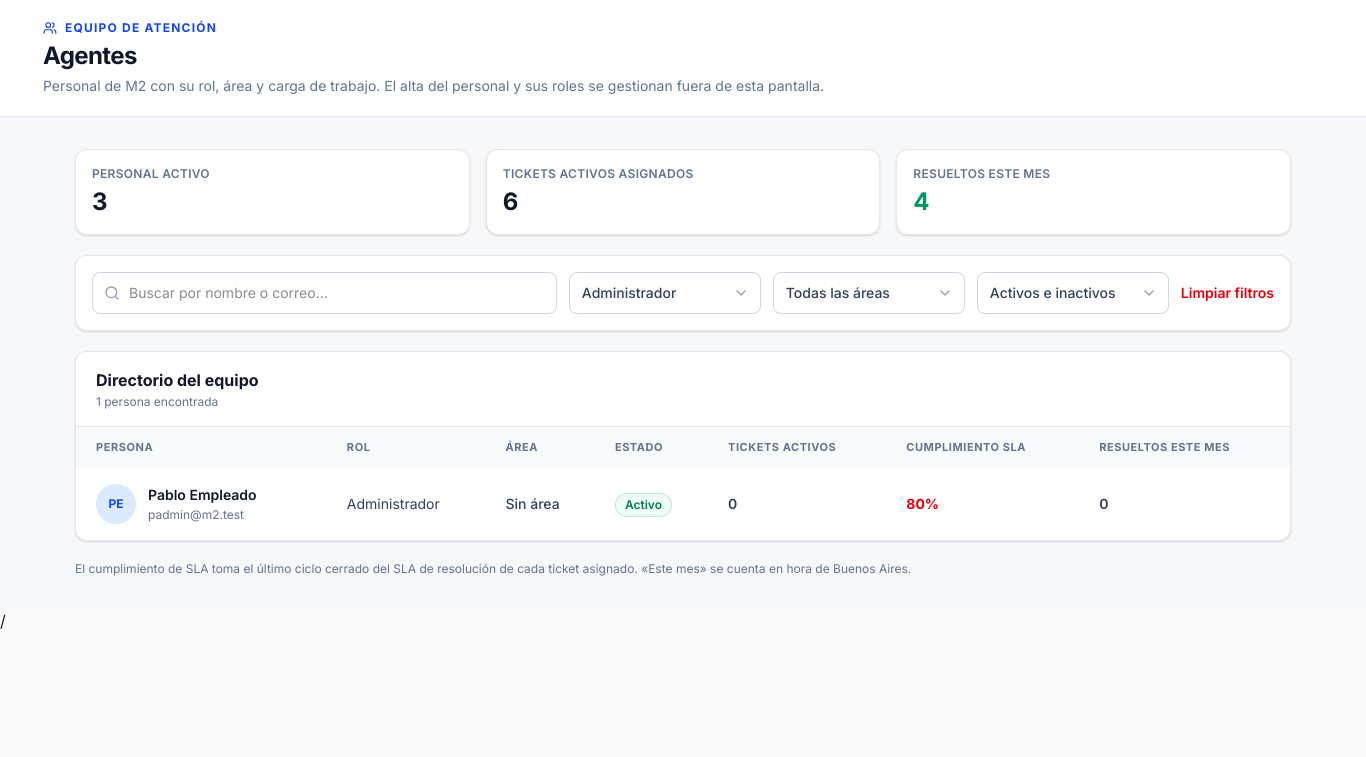
it: AgentsPage con el directorio real › filtra por texto sin importar tildes, rol, área y estado, y limpia los filtros
This screenshot has width=1366, height=757.
Earlier steps of the test are not shown.
Check: the text "1 persona encontrada" is shown, box [96, 394, 218, 409]
Select "Todos los roles" in the dropdown named "Filtrar por rol": (665, 293) [569, 272, 761, 314]
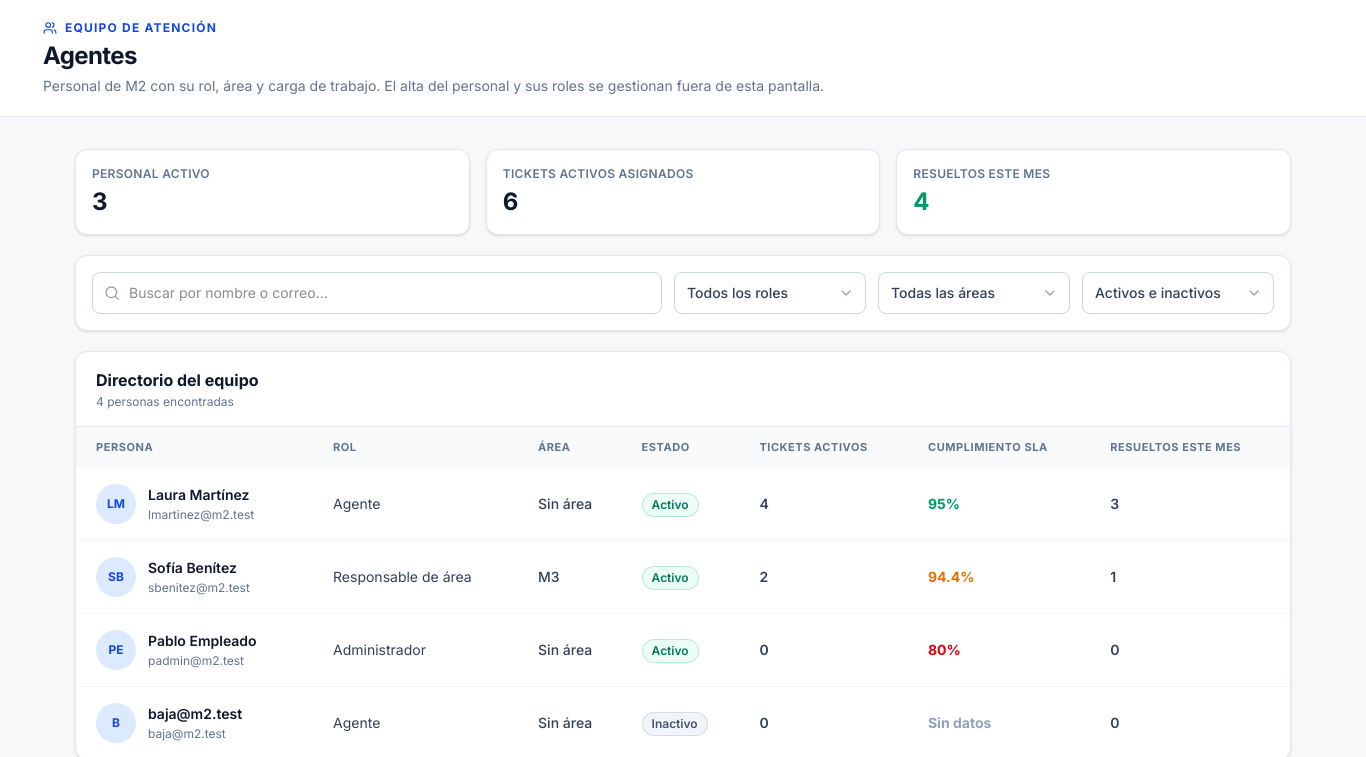
Select "M3" in the dropdown named "Filtrar por área": (974, 293) [878, 272, 1070, 314]
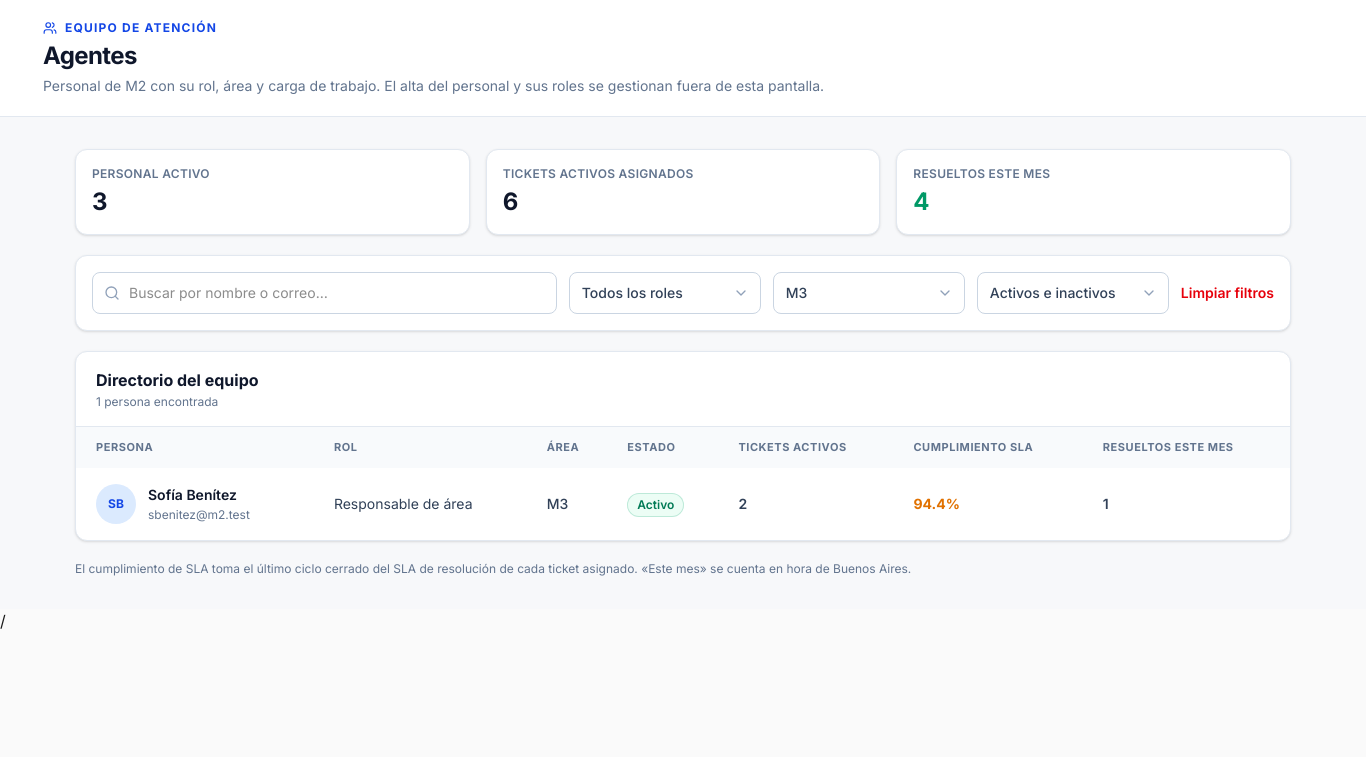
Check: the text "1 persona encontrada" is shown, box [96, 394, 218, 409]
Select "Todas las áreas" in the dropdown named "Filtrar por área": (869, 293) [773, 272, 965, 314]
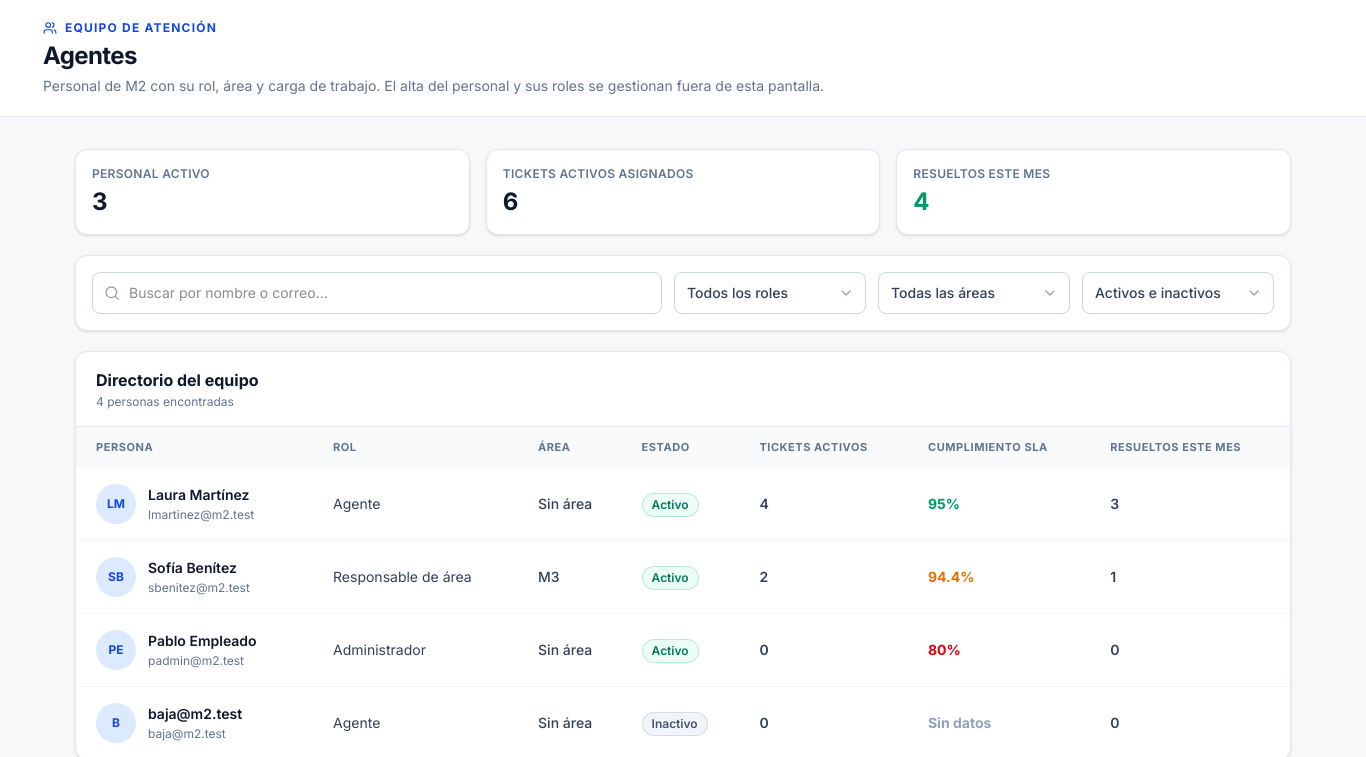
Select "Inactivos" in the dropdown named "Filtrar por estado": (1178, 293) [1082, 272, 1274, 314]
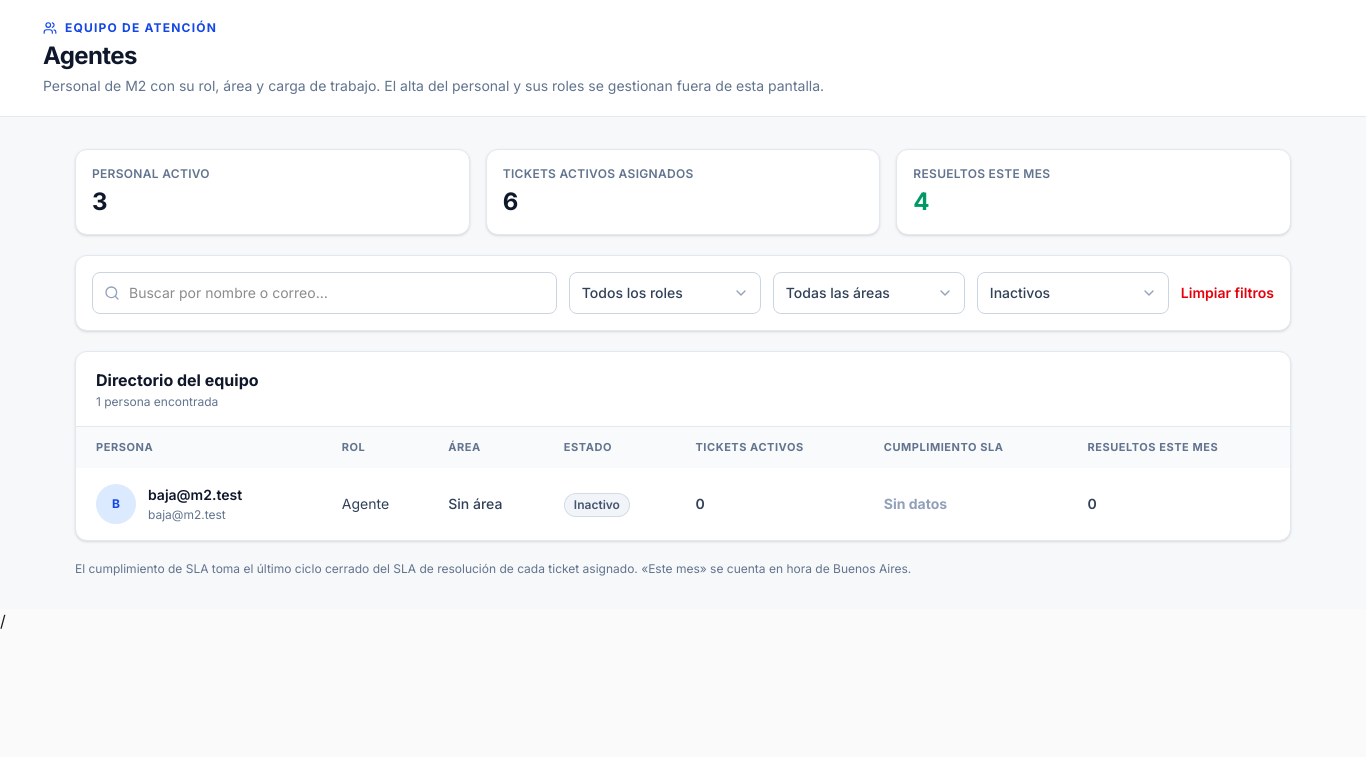
Check: the text "1 persona encontrada" is shown, box [96, 394, 218, 409]
Select "Activos" in the dropdown named "Filtrar por estado": (1073, 293) [977, 272, 1169, 314]
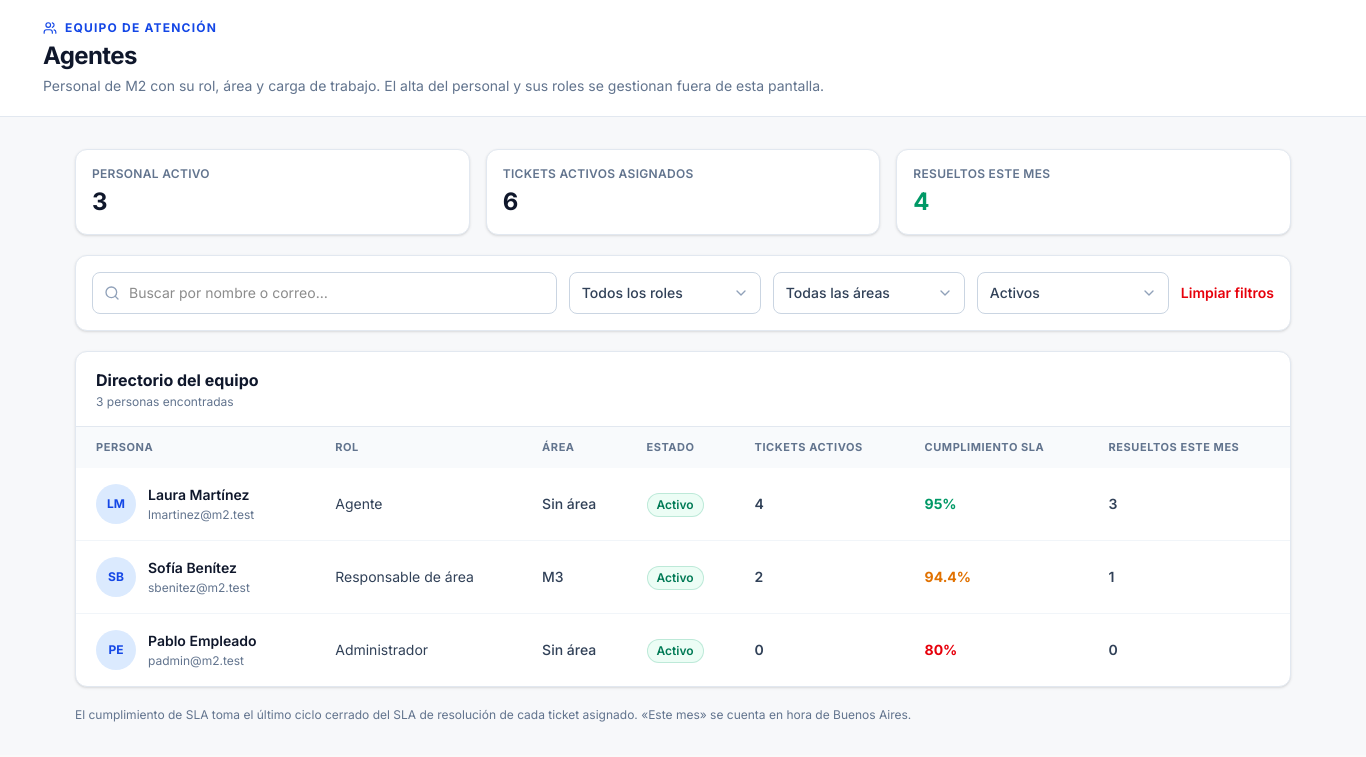
Check: the text "3 personas encontradas" is shown, box [96, 394, 234, 409]
Click the button "Limpiar filtros": (1227, 293) [1181, 283, 1274, 303]
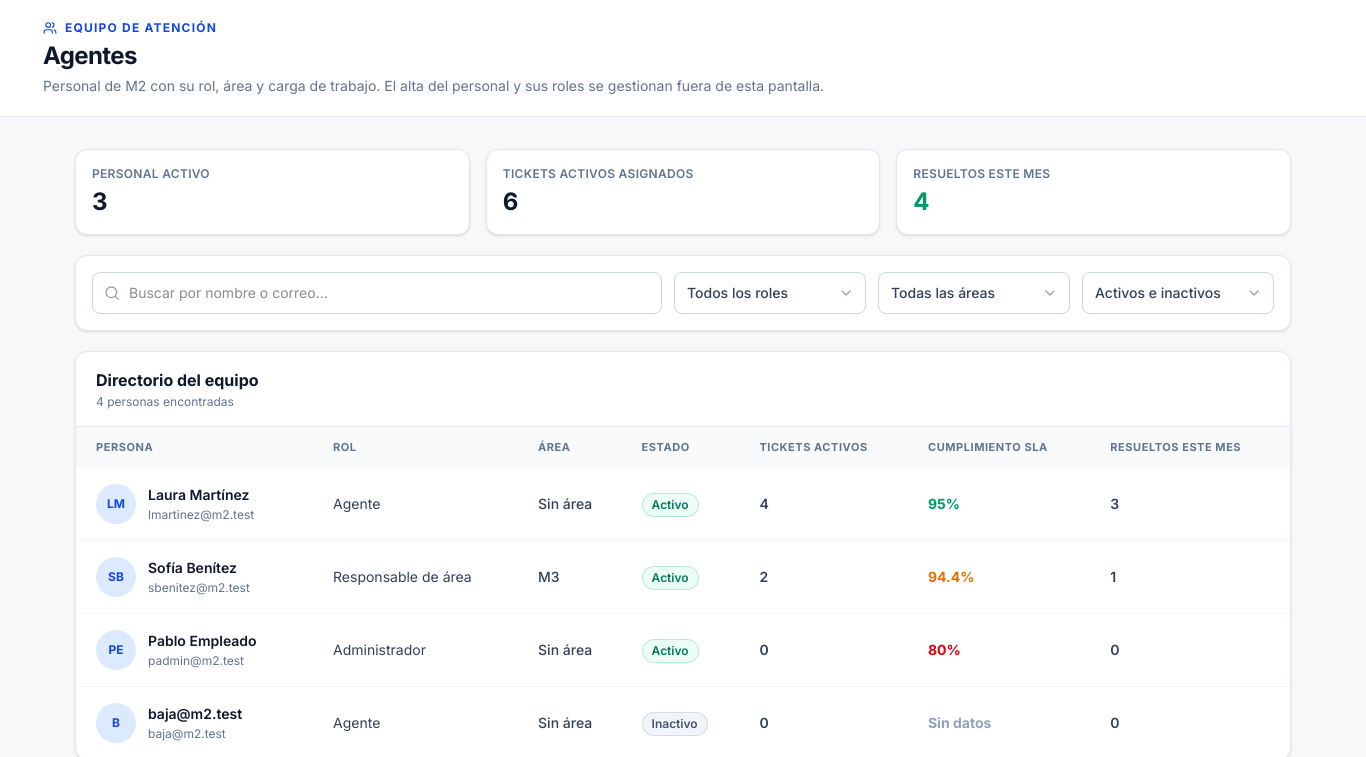
Check: the text "4 personas encontradas" is shown, box [96, 394, 234, 409]
Check: the button "Limpiar filtros" is gone
